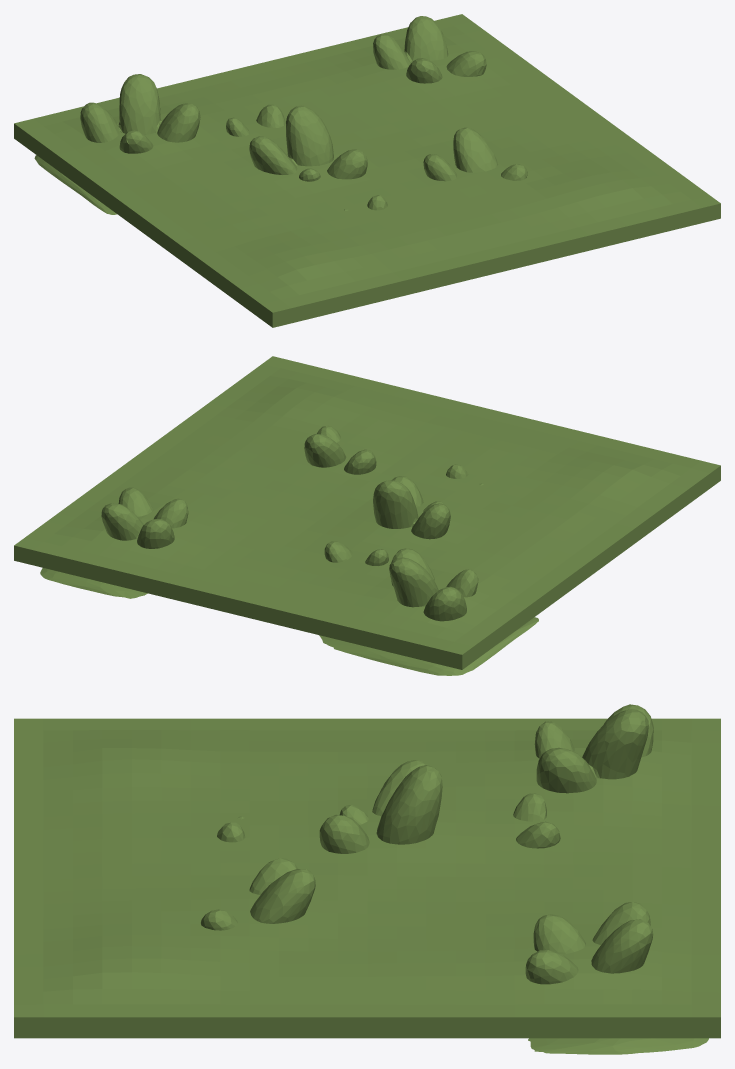
Rendered from tile_layer_surface_grass_tufts.glb.
The picture shows the model from 3 angles, top to bottom: view 1: azimuth 30°, elevation 25°; view 2: azimuth 150°, elevation 25°; view 3: azimuth 270°, elevation 25°; orthographic projection. The views are drawn at different scales.
Visible parts, largest first — view 1: grass_tufts_cap, grass_tufts; view 2: grass_tufts_cap, grass_tufts; view 3: grass_tufts_cap, grass_tufts.
Part boxes in pixels (<box>): grass_tufts_cap: <box>14,14,720,327</box>; grass_tufts: <box>34,16,527,214</box>; grass_tufts_cap: <box>14,356,720,669</box>; grass_tufts: <box>40,425,538,675</box>; grass_tufts_cap: <box>14,718,720,1038</box>; grass_tufts: <box>201,704,708,1054</box>.
Size of the model in its own units: 1.7 by 0.2979 by 1.7.
